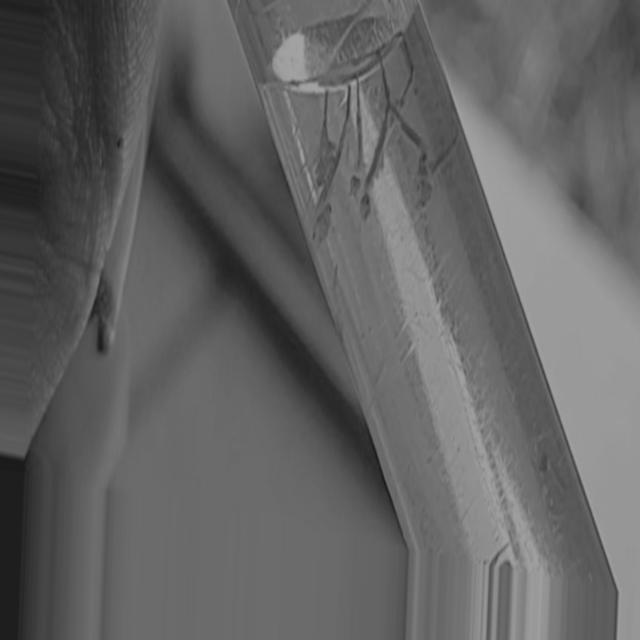larvas: (310, 88, 355, 255), (361, 70, 387, 218), (422, 134, 458, 205), (393, 109, 429, 175), (350, 72, 363, 200), (316, 91, 332, 174), (397, 36, 413, 105)
